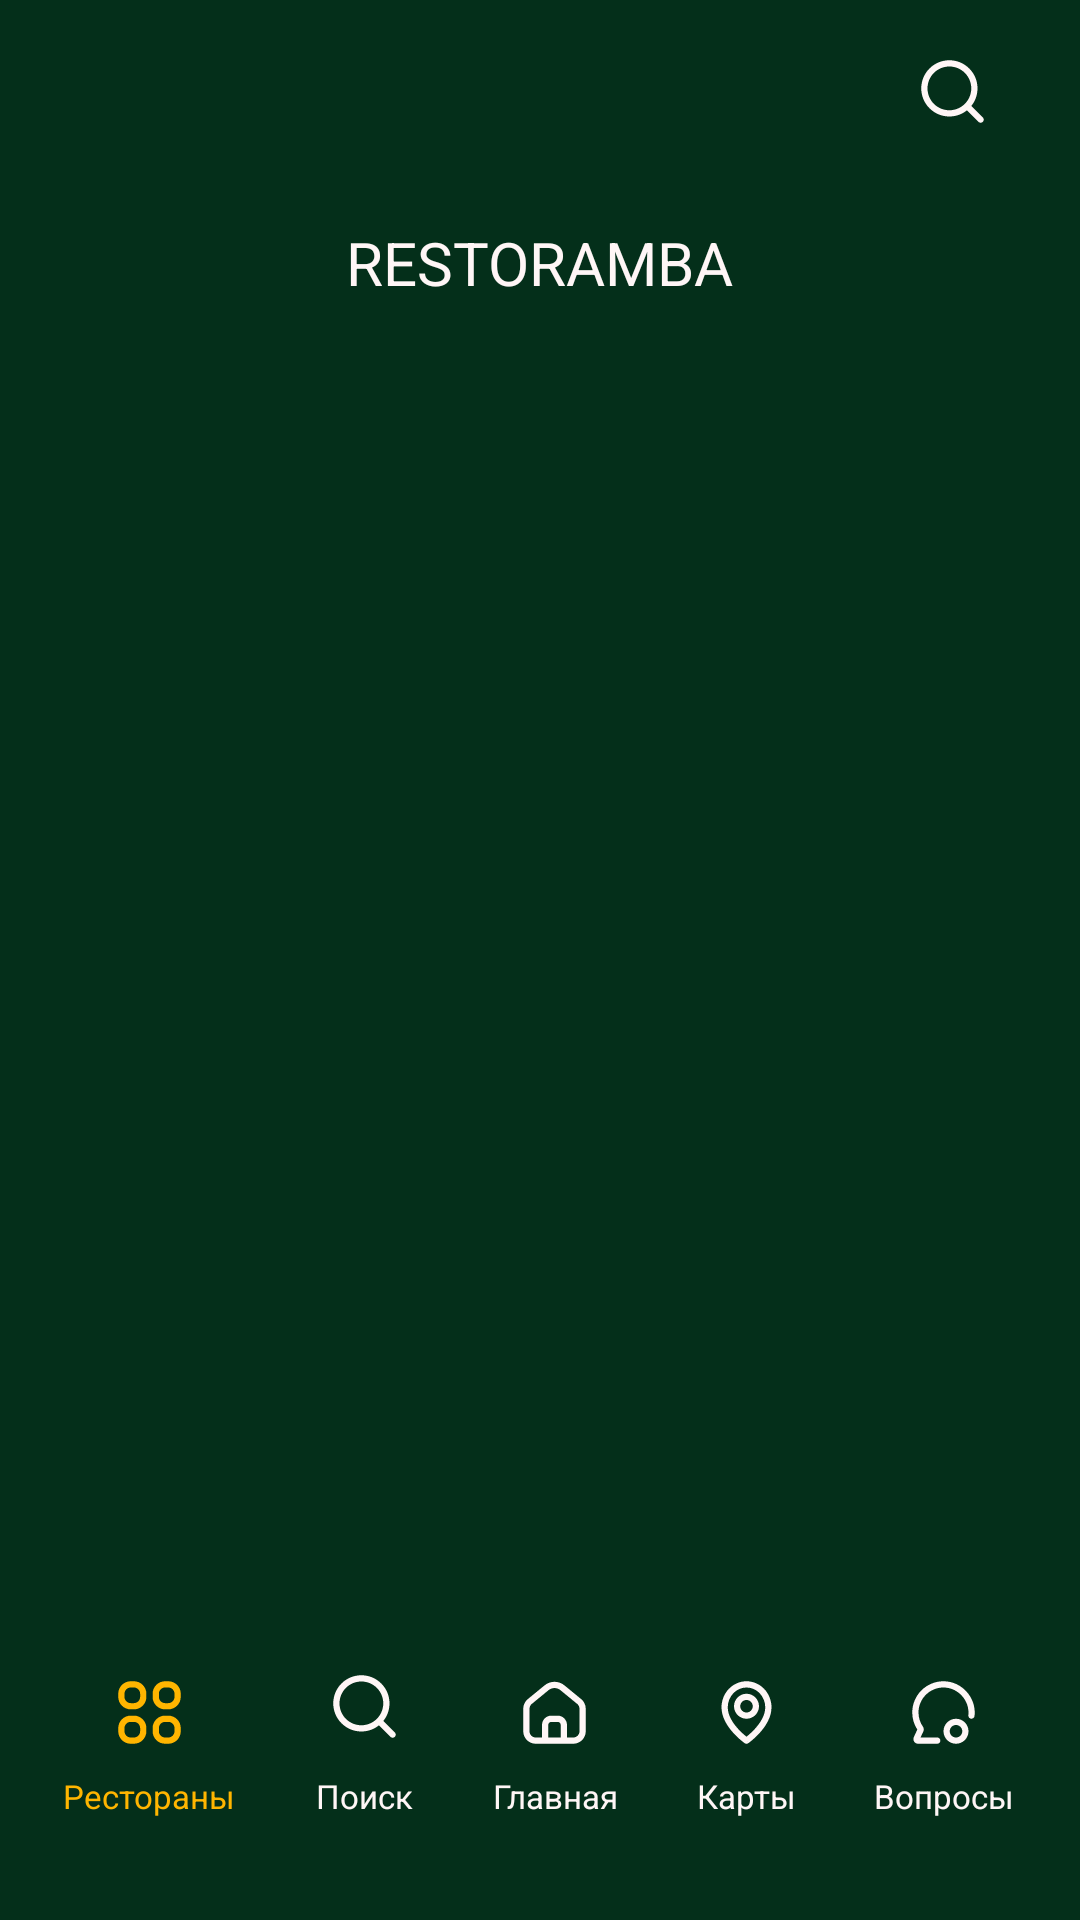

Icons on this 1080w x 1920h Android screen, each with its box as [x1,y1,x2,y2]:
search: [921,60,984,123]
